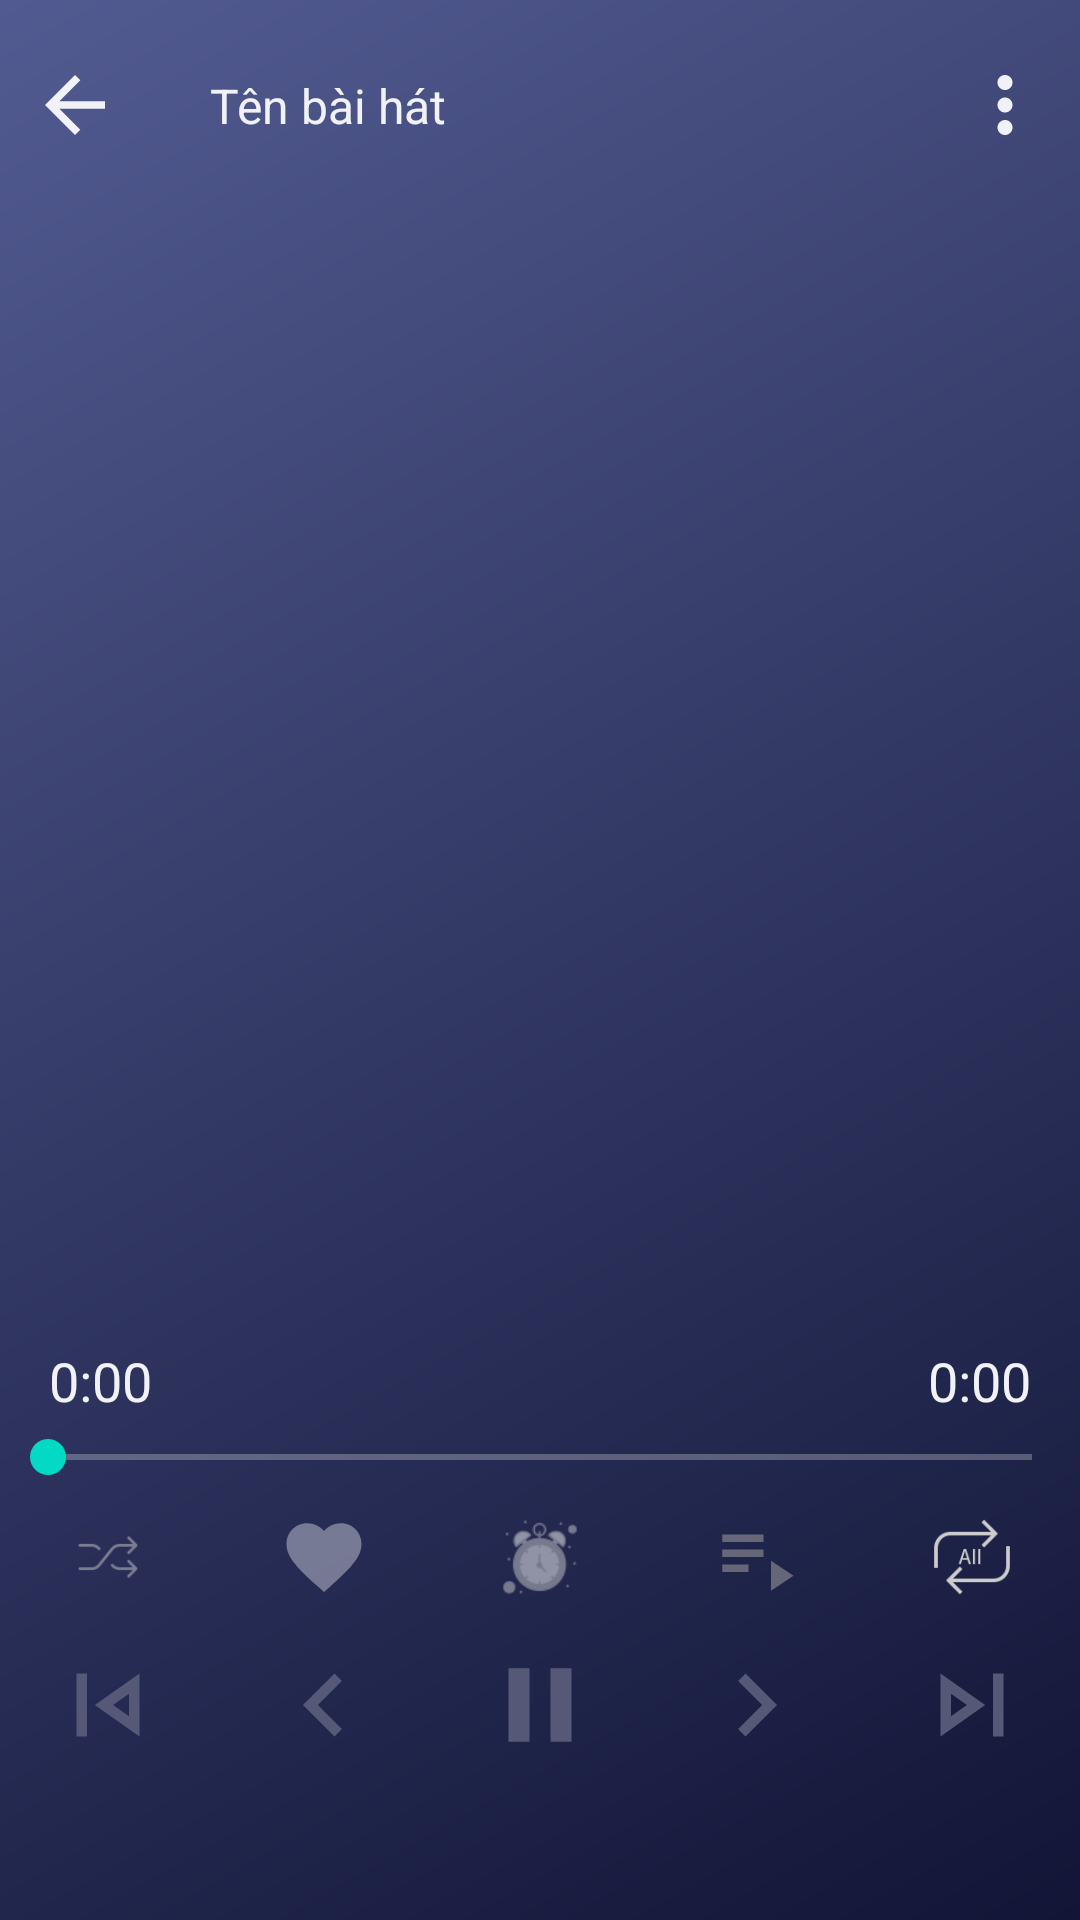

Icon click points for this 1080px x 1920px phone screenshot, format point (x, y):
arrow back: point (75, 105)
clock: point (540, 1557)
favorite: point (324, 1557)
keyboard arrow left: point (322, 1705)
more vert: point (1005, 105)
navigate next: point (758, 1705)
pause: point (540, 1705)
playlist play: point (757, 1562)
repeat all: point (972, 1557)
shuffle: point (108, 1557)
skip next: point (972, 1705)
skip previous: point (108, 1704)
